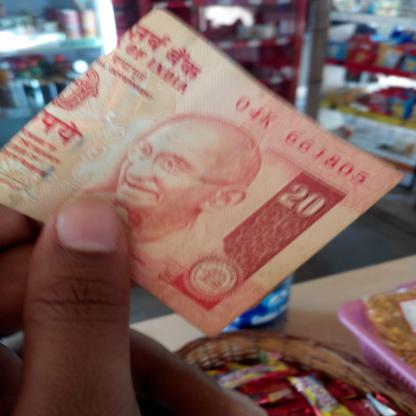Old20Front: (0, 9, 403, 340)
